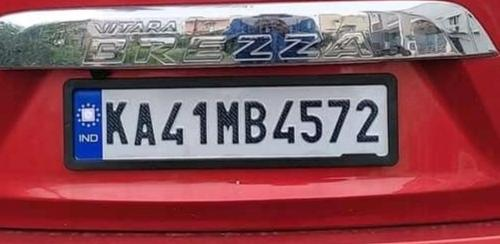1: (188, 96, 213, 149)
2: (355, 97, 382, 146)
4: (159, 97, 188, 147), (272, 97, 299, 148)
5: (297, 94, 325, 145)
7: (326, 95, 352, 145)
A: (133, 100, 157, 150)
B: (243, 99, 268, 146)
K: (102, 99, 130, 146)
M: (215, 99, 241, 145)
